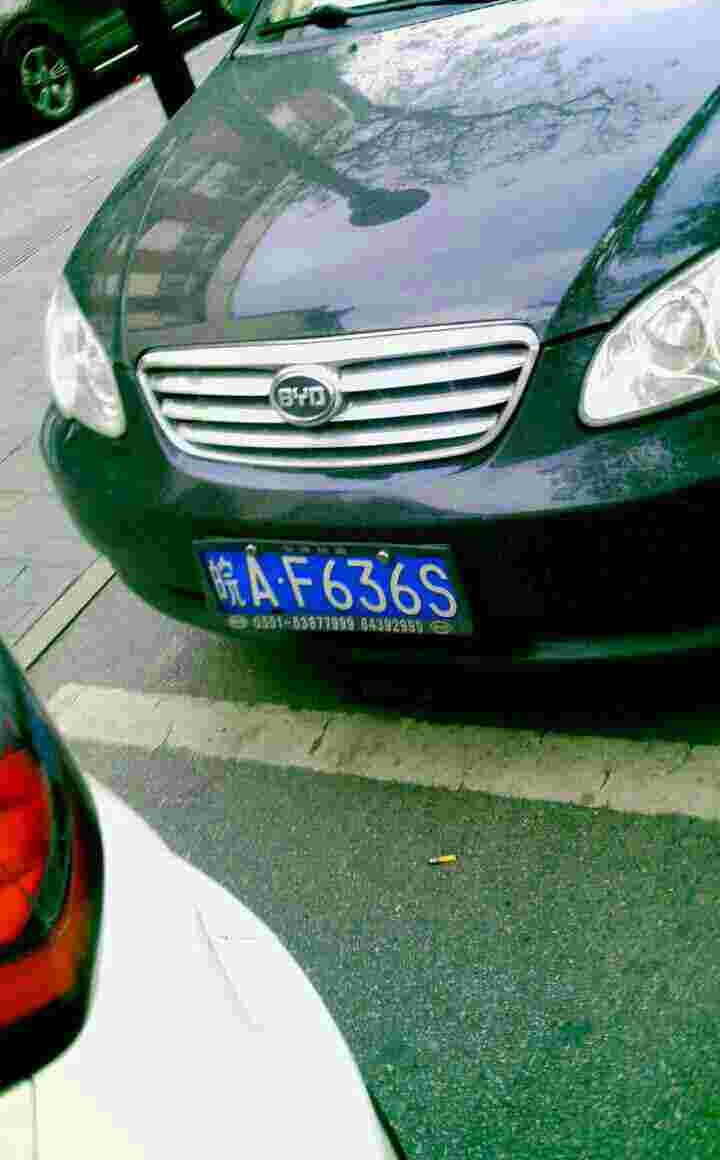plate: (191, 535, 479, 635)
